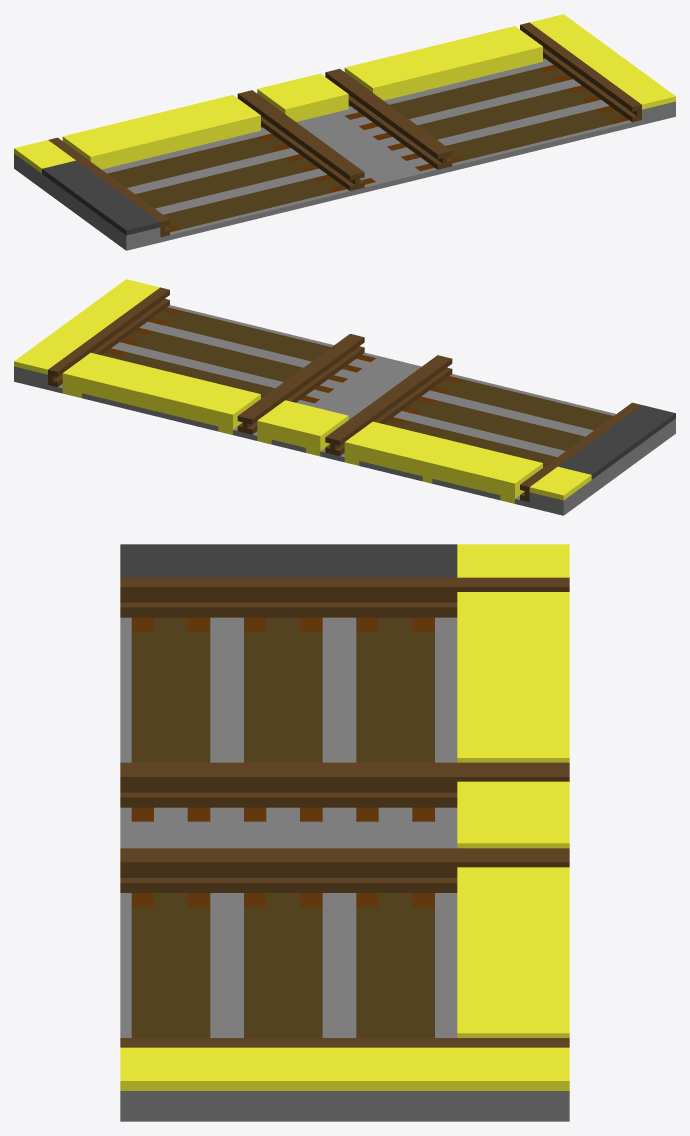
File: Trainvasion Moterman-16-StreetCar track Crosswalk2.obj
3 renders of one model, top to bottom at view 1: azimuth 30°, elevation 25°; view 2: azimuth 150°, elevation 25°; view 3: azimuth 270°, elevation 25°, orthographic. The views are drawn at different scales.
Visible parts, largest first — view 1: StreetCar track Crosswalk2; view 2: StreetCar track Crosswalk2; view 3: StreetCar track Crosswalk2.
Boxes of the visible parts, box(x1,y1,x2,y2) form: StreetCar track Crosswalk2: box(14, 14, 675, 250); StreetCar track Crosswalk2: box(14, 279, 675, 515); StreetCar track Crosswalk2: box(120, 544, 569, 1121).
Bounding box in the file's own units: 11.3 × 0.4 × 4.
Materials: 1 (1 with a texture image).
